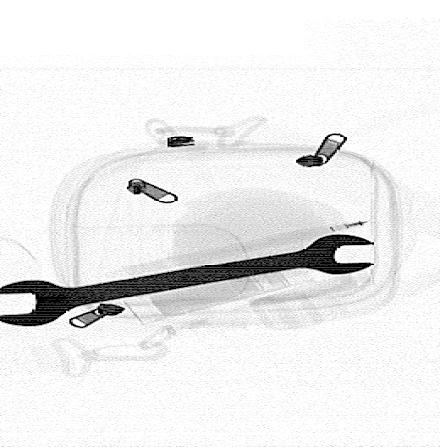Wrench: (0, 234, 379, 327)
